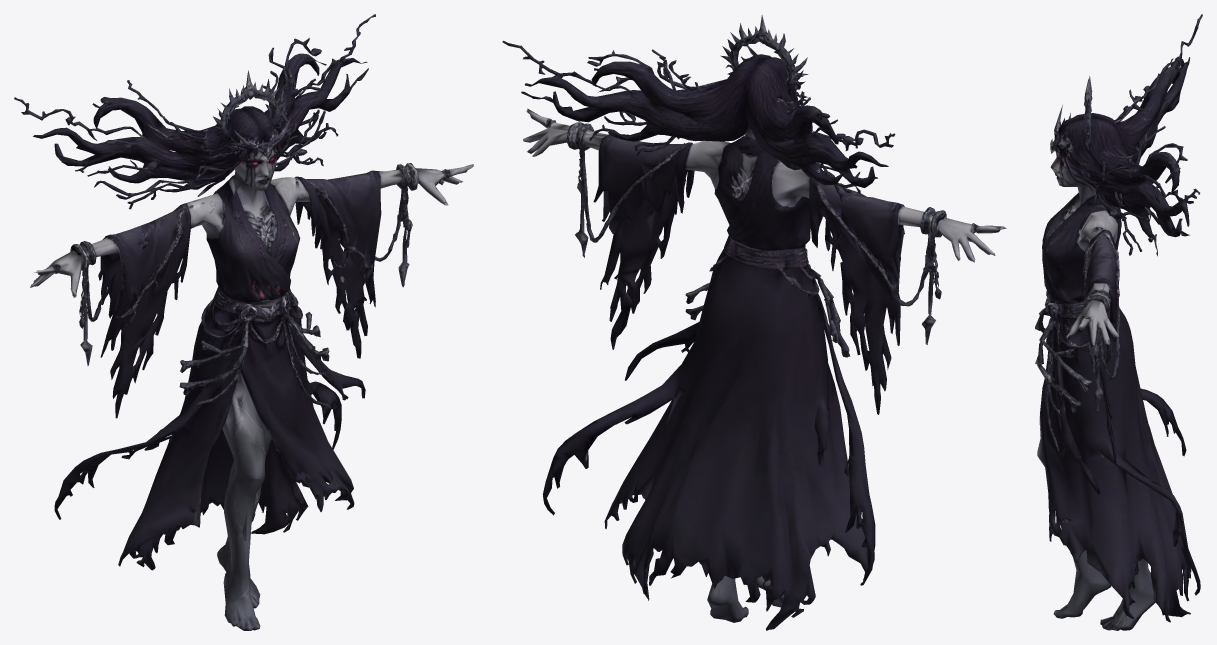
File: tam-evil.glb
3 renders of one model, left to right at view 1: azimuth 30°, elevation 25°; view 2: azimuth 150°, elevation 25°; view 3: azimuth 270°, elevation 25°, orthographic. The views are drawn at different scales.
Parts seen in each view (by area): view 1: tripo_node_6b24154c-b5f3-45f2-8a2d-3d6afac68dc9; view 2: tripo_node_6b24154c-b5f3-45f2-8a2d-3d6afac68dc9; view 3: tripo_node_6b24154c-b5f3-45f2-8a2d-3d6afac68dc9.
Part boxes in pixels (x1,y1,x2,y2): tripo_node_6b24154c-b5f3-45f2-8a2d-3d6afac68dc9: (14, 14, 473, 630); tripo_node_6b24154c-b5f3-45f2-8a2d-3d6afac68dc9: (502, 15, 1006, 630); tripo_node_6b24154c-b5f3-45f2-8a2d-3d6afac68dc9: (1035, 14, 1202, 630).
Bounding box in the file's own units: 0.8221 × 0.979 × 0.2722.
Materials: 1 (1 with a texture image).
